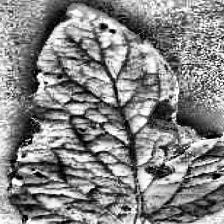disease: (8, 3, 224, 224)
